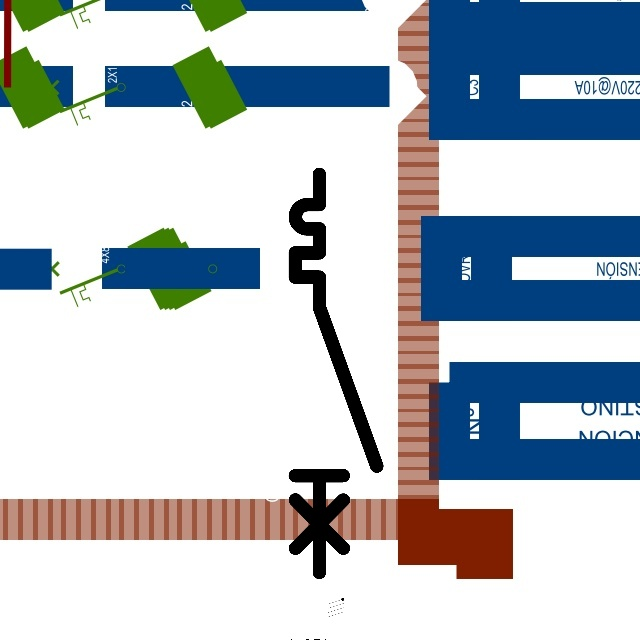interruptor_termomagnetico: (285, 164, 387, 582)
